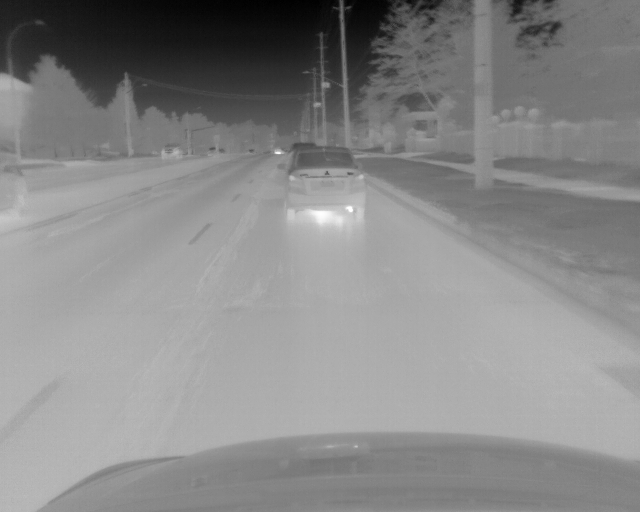car: (276, 146, 367, 222), (1, 156, 29, 218), (160, 144, 184, 159)
